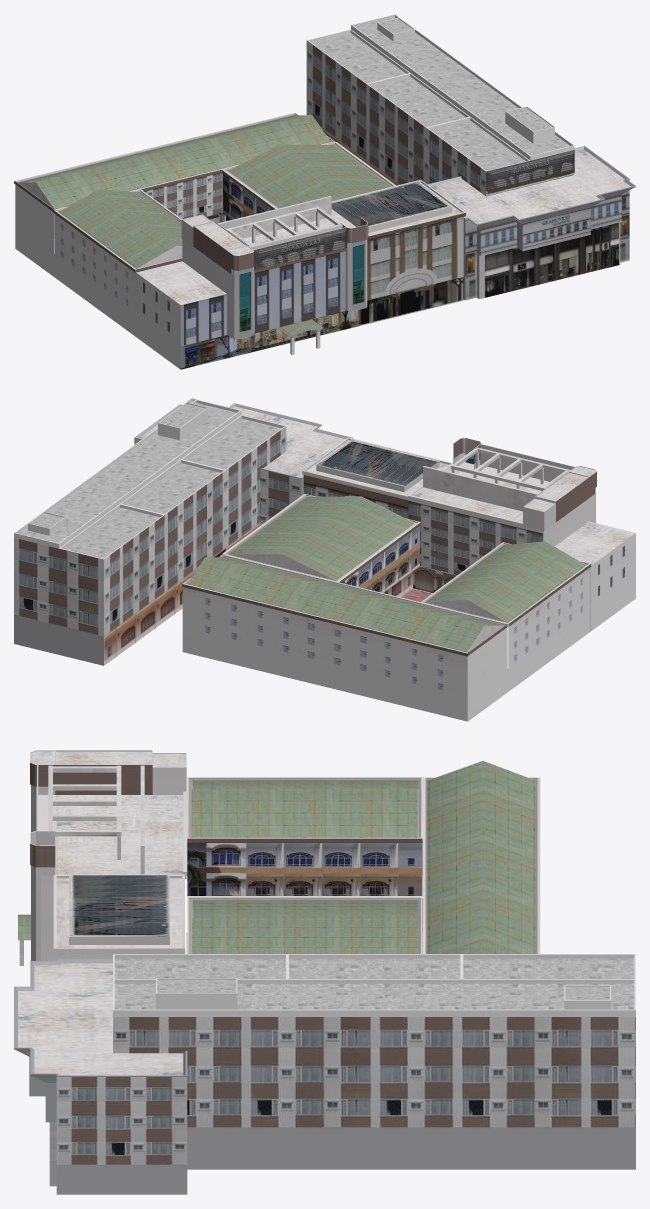
3 views of the same model, one above another, from view 1: azimuth 30°, elevation 25°; view 2: azimuth 150°, elevation 25°; view 3: azimuth 270°, elevation 25° (orthographic). The views are drawn at different scales.
Visible parts, largest first — view 1: GrandvrioCity; view 2: GrandvrioCity; view 3: GrandvrioCity.
Boxes of the visible parts, x1,y1,x2,y2 form: GrandvrioCity: (14, 14, 635, 369); GrandvrioCity: (14, 398, 635, 721); GrandvrioCity: (14, 750, 635, 1194).
Bounding box in the file's own units: 80.25 × 20.2 × 65.99.
1 material, 1 textured.
